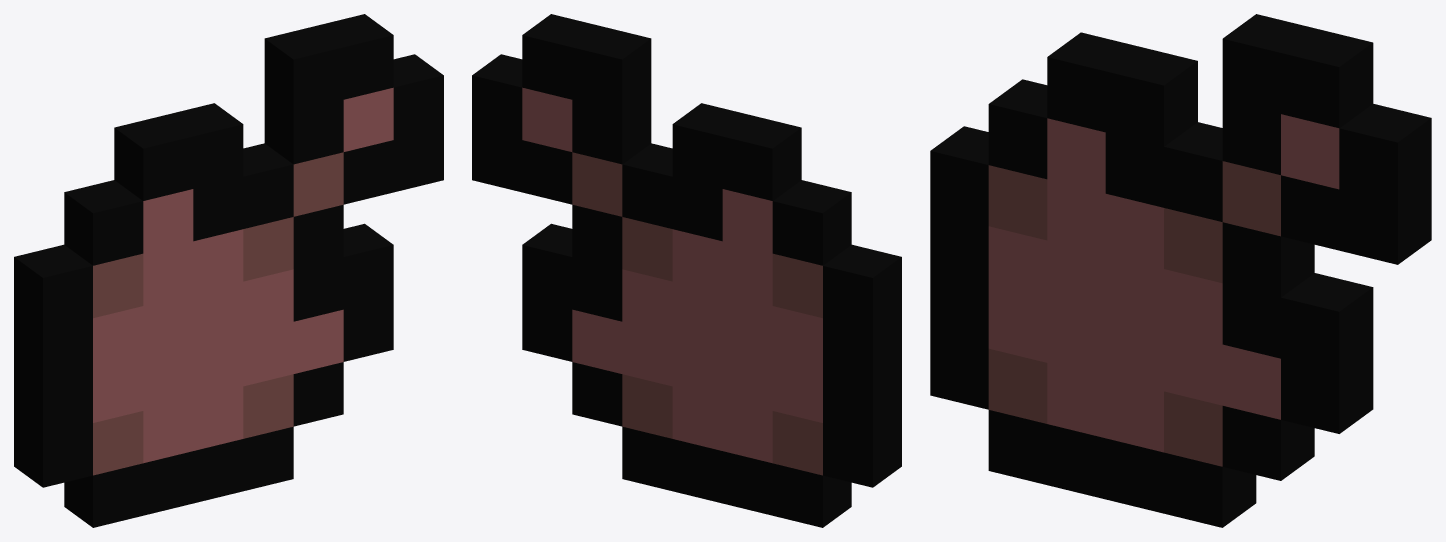
The model's file is Murk Stingray.glb.
3 renders of one model, left to right at view 1: azimuth 30°, elevation 25°; view 2: azimuth 150°, elevation 25°; view 3: azimuth 330°, elevation 25°, orthographic. The views are drawn at different scales.
Parts seen in each view (by area): view 1: generated(Clone); view 2: generated(Clone); view 3: generated(Clone).
Part boxes in pixels (x1,y1,x2,y2): generated(Clone): (14, 14, 443, 527); generated(Clone): (472, 14, 901, 527); generated(Clone): (930, 14, 1431, 527).
Size of the model in its own units: 8 by 8 by 1.
Materials: 1 (1 with a texture image).
